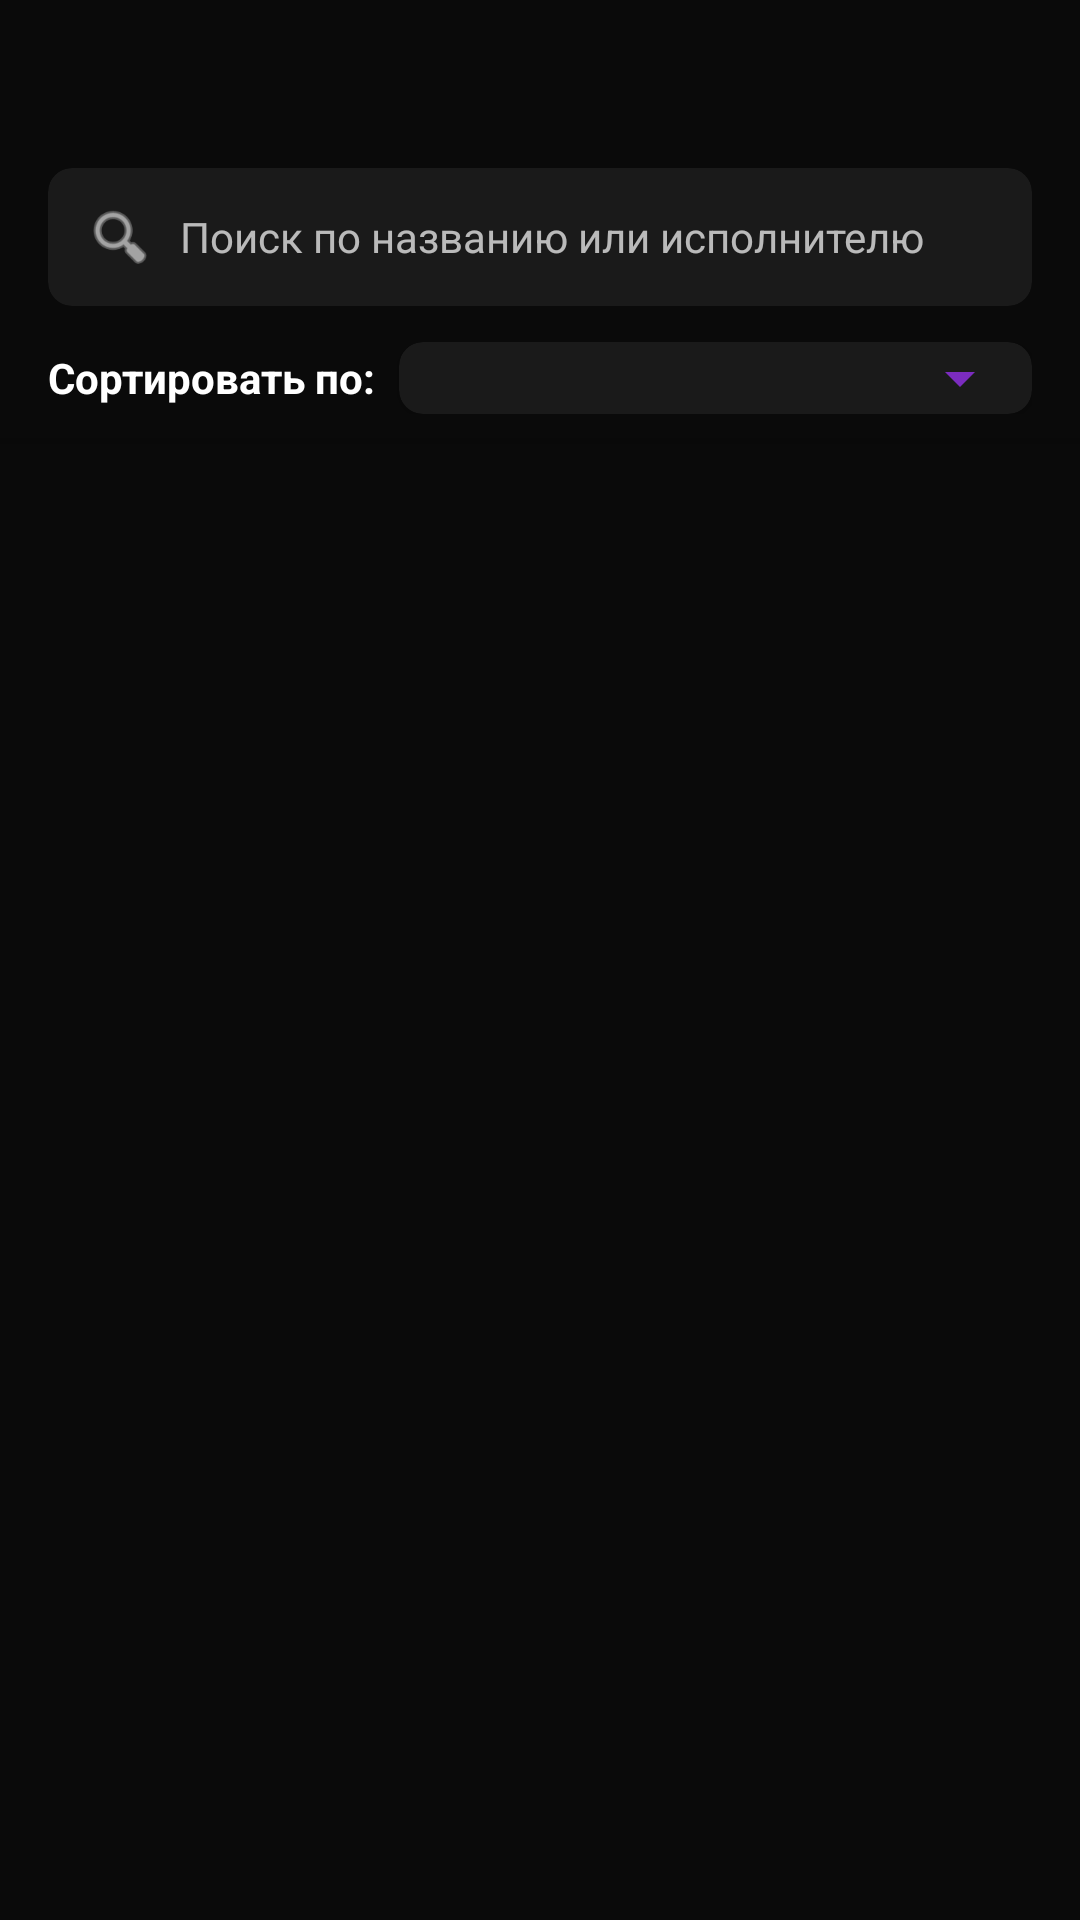

Locate icon controls on the screen. Image size 1080x1920, boxes as (left=x1, top=y1, right=x2, bottom=y2).
search: (left=93, top=211, right=146, bottom=264)
